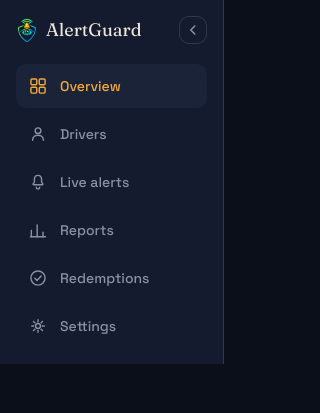
Test: Sidebar › collapses to an icon-only rail and back, keeping nav labels as the accessible name
The image size is (320, 413).
Click the button named "Collapse sidebar".
click(193, 30)  # box left=179, top=16, right=207, bottom=44
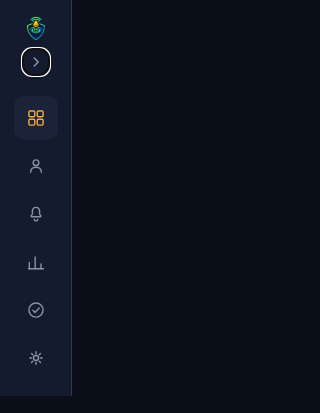
expect the button named "Expand sidebar" is collapsed: met
Click the button named "Expand sidebar".
click(36, 62)  # box left=22, top=48, right=50, bottom=76
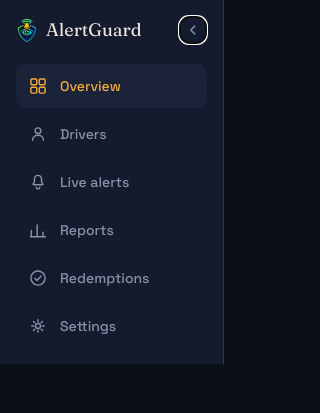
expect the button named "Collapse sidebar" is expanded: met, box left=179, top=16, right=207, bottom=44
